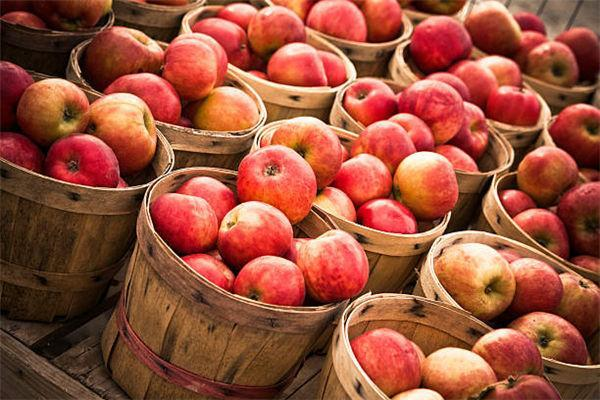apple: (235, 144, 318, 223), (82, 91, 153, 176), (435, 243, 515, 316), (12, 75, 89, 149), (267, 114, 343, 187), (295, 227, 368, 303), (215, 201, 293, 265), (349, 328, 421, 395), (393, 148, 458, 220), (507, 310, 589, 364), (397, 77, 463, 142), (420, 345, 497, 398), (42, 133, 118, 186), (471, 325, 540, 383), (89, 26, 160, 79), (517, 145, 578, 206), (232, 253, 303, 305), (549, 103, 600, 169), (556, 181, 599, 258), (335, 77, 397, 129), (510, 207, 570, 260), (523, 38, 577, 87), (356, 197, 417, 234), (433, 142, 477, 173)
